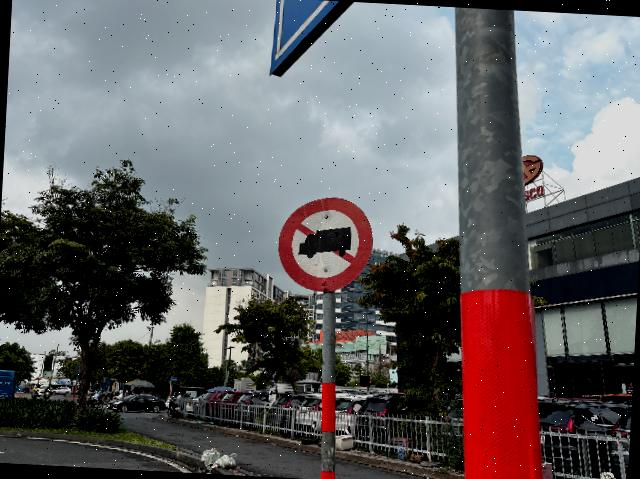cam-xe-tai: (276, 194, 376, 296)
